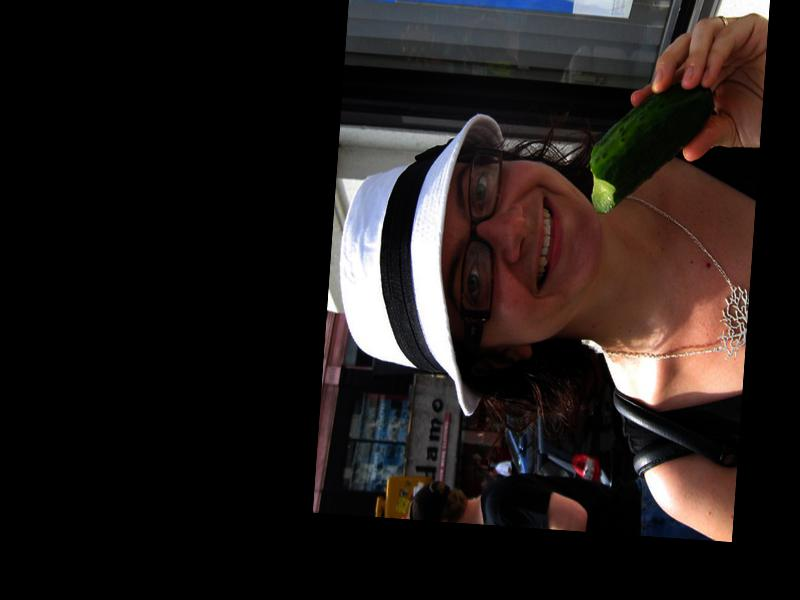Cucumber: (586, 74, 715, 218)
